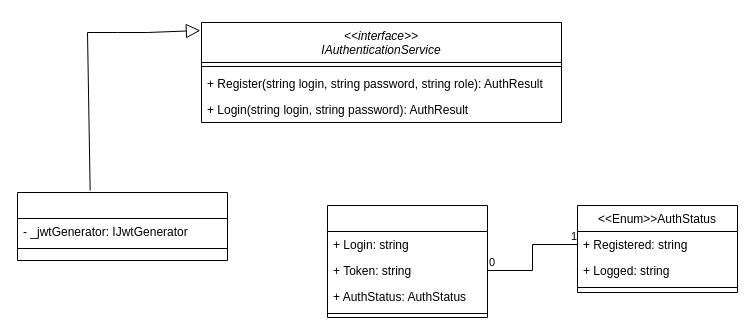
The diagram is 755 pixels wide and 335 high, and some of its shapes have lost their labels. The shapes that lost their labels are listed below. From the top down, each one's box as (x1, y1, x2, y2) in pixels, then its label:
(16, 192, 228, 260): AuthenticationService
(326, 204, 488, 318): AuthResult
